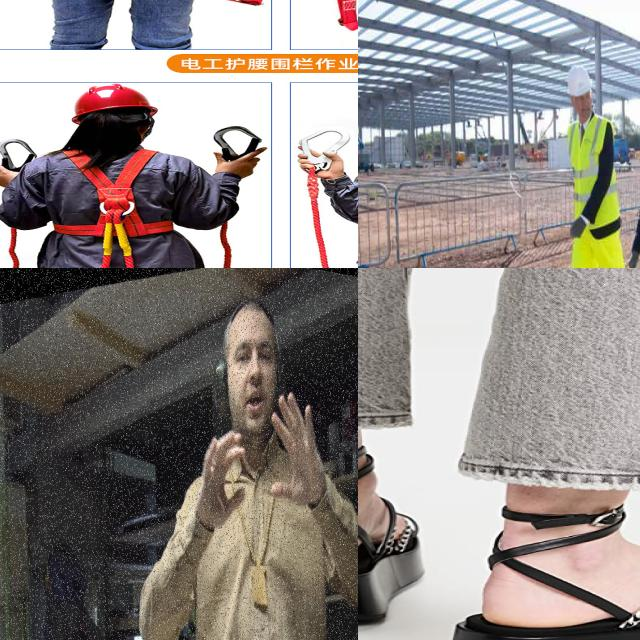Harness: (47, 141, 176, 250)
No_Glasses: (228, 328, 276, 376)
Sandals: (446, 484, 640, 640), (358, 425, 427, 625)
face_nomask: (572, 92, 597, 125)
hand_glove: (570, 218, 592, 241), (625, 245, 640, 268)
head_helmet: (565, 64, 592, 97)
person: (540, 62, 640, 268)
vest: (566, 117, 622, 232)
